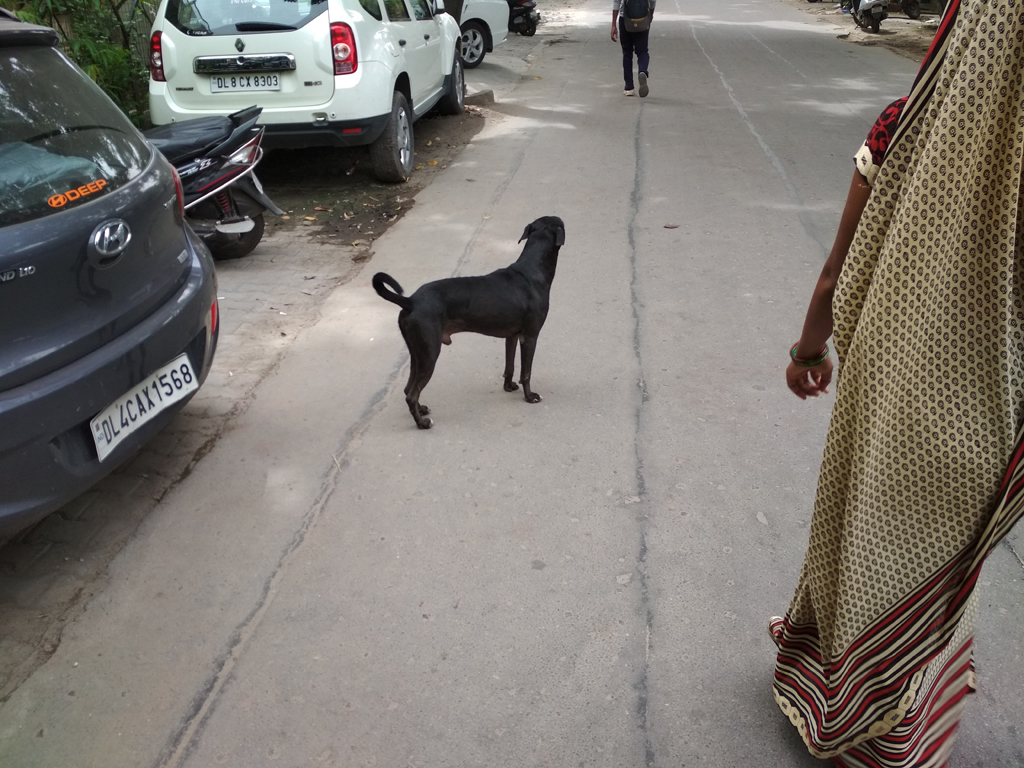dog: (372, 217, 565, 428)
